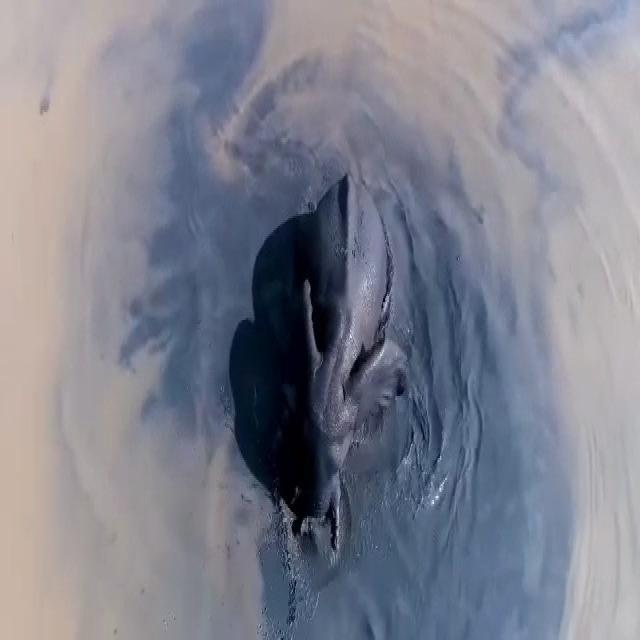Elephant: (274, 153, 402, 553)
